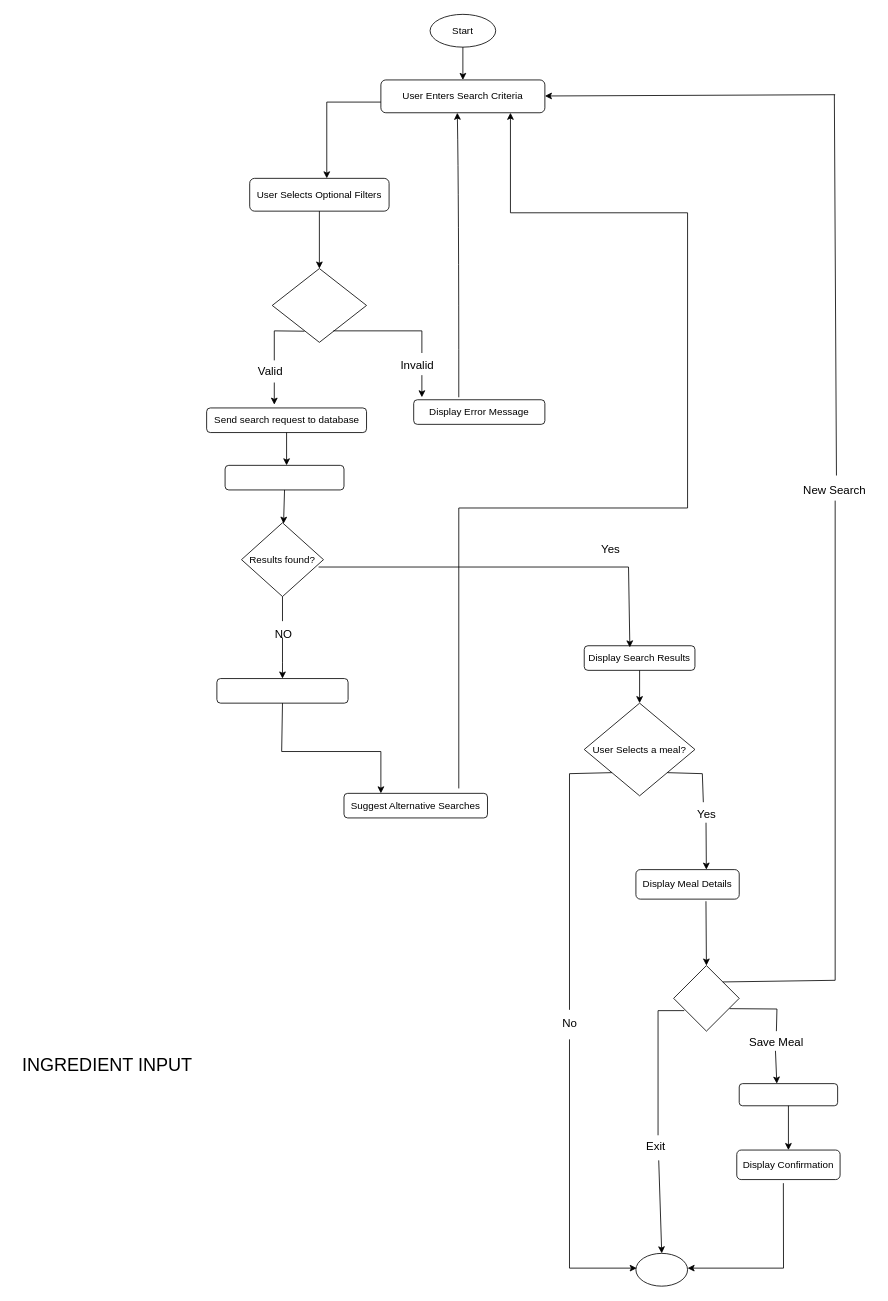
Image size: 888x1301. Some labels were removed from this diagram. Here are the shapes that lost their labels. From the top down, the centre of each, then its label:
the point at 319,305: Validate Input
the point at 284,477: Process search results
the point at 282,690: Display No Results Message
the point at 706,998: User action
the point at 788,1094: Save to Favorites
the point at 661,1269: End
